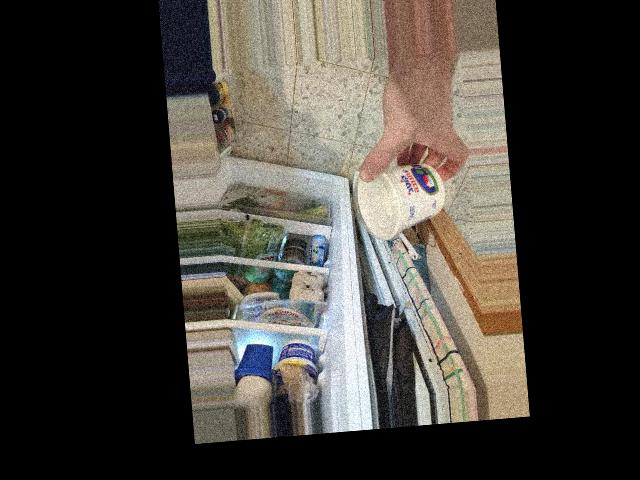cotage: (356, 154, 448, 236)
